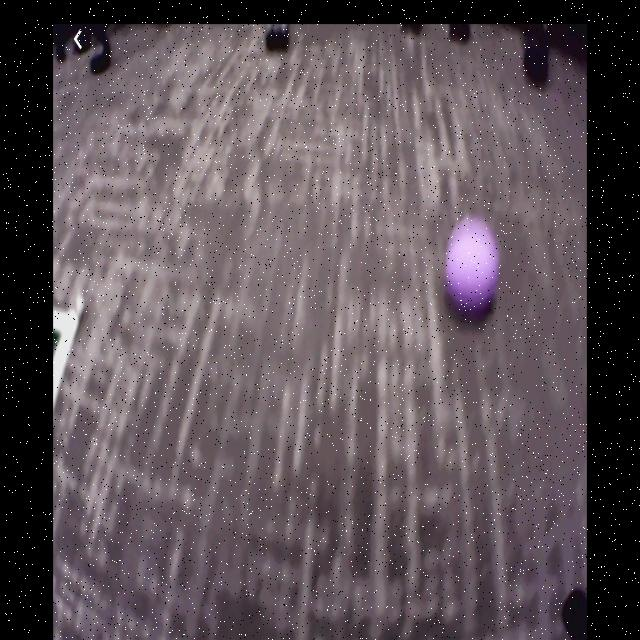ball: (446, 224, 501, 311)
